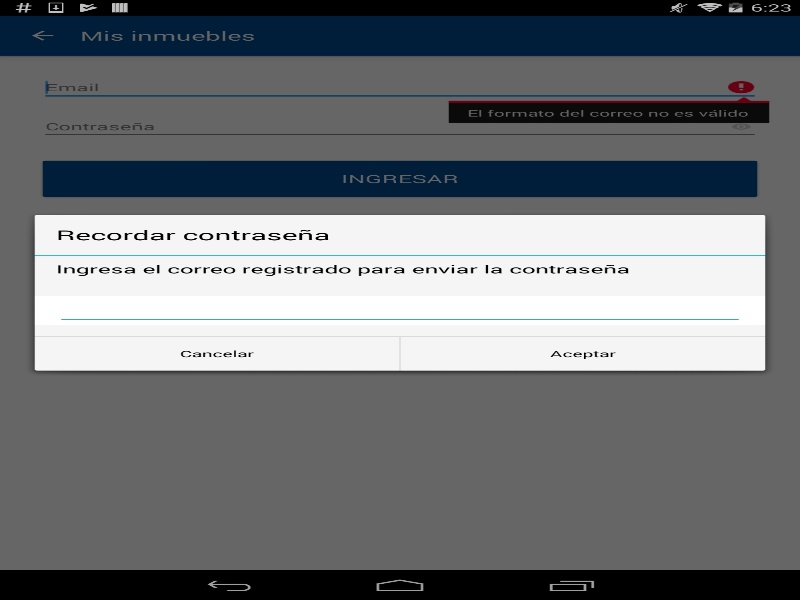Button: (34, 336, 399, 370), (400, 336, 765, 370)
Input: (56, 296, 744, 324)
